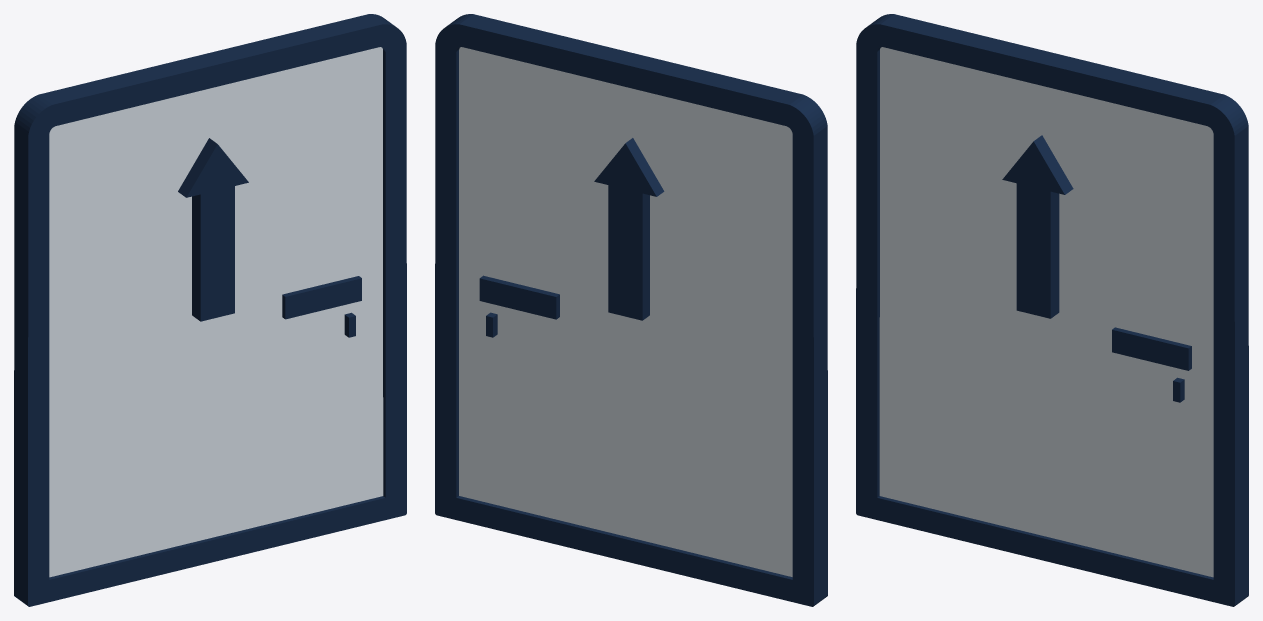
Rendered from d-icons-door-in.glb.
3 views of the same model, side by side, from view 1: azimuth 30°, elevation 25°; view 2: azimuth 150°, elevation 25°; view 3: azimuth 330°, elevation 25° (orthographic).
Visible parts, largest first — view 1: Curve.004; view 2: Curve.004; view 3: Curve.004.
Boxes of the visible parts, bbox=[...] form: Curve.004: bbox=[14, 14, 406, 606]; Curve.004: bbox=[435, 14, 827, 606]; Curve.004: bbox=[856, 14, 1248, 606].
Bounding box in the file's own units: 0.4013 × 0.5025 × 0.0456.
1 material, 1 textured.
